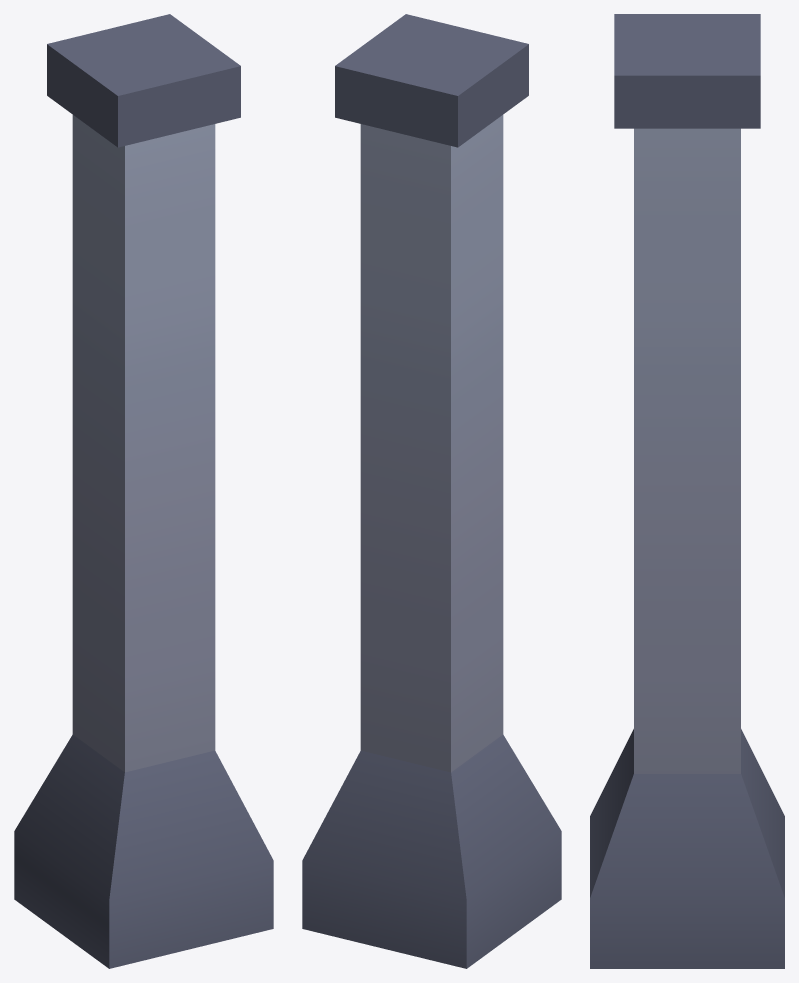
Rendered from road_bridge_pillar.glb.
The picture shows the model from 3 angles, left to right: view 1: azimuth 30°, elevation 25°; view 2: azimuth 150°, elevation 25°; view 3: azimuth 270°, elevation 25°; orthographic projection. The views are drawn at different scales.
Parts seen in each view (by area): view 1: bridge-pillar; view 2: bridge-pillar; view 3: bridge-pillar.
Part boxes in pixels (x1,y1,x2,y2): bridge-pillar: [14, 14, 273, 968]; bridge-pillar: [302, 14, 561, 968]; bridge-pillar: [590, 14, 784, 968].
Size of the model in its own units: 0.1 by 0.5 by 0.1.
1 material, 1 textured.
